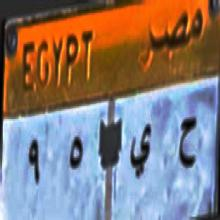5: (67, 134, 86, 177)
7aa: (180, 108, 198, 178)
9: (26, 131, 42, 194)
yaa: (126, 120, 153, 183)
